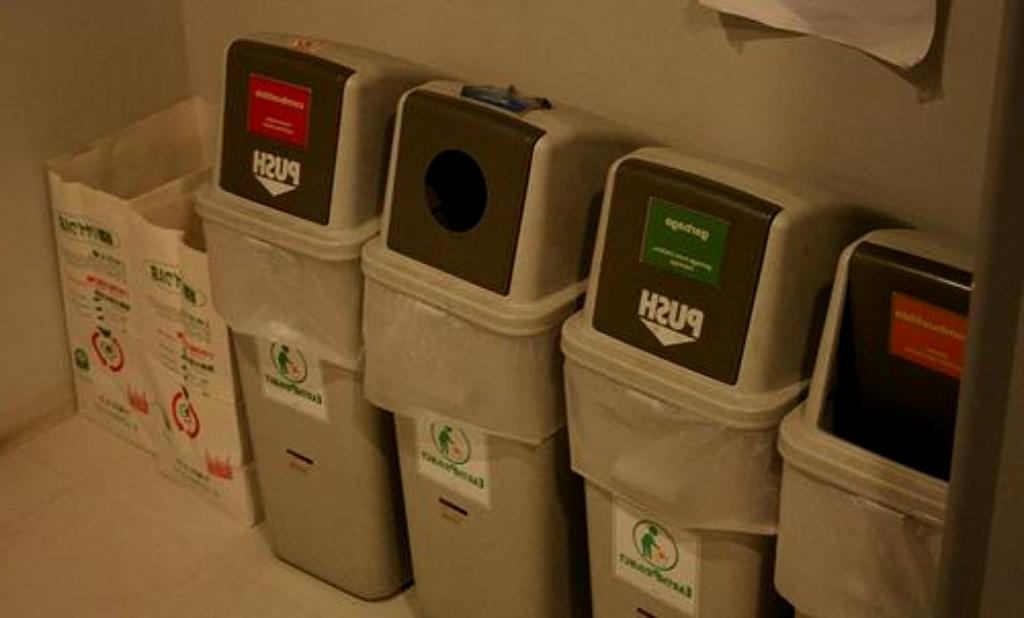dustbin: (366, 79, 633, 618), (566, 133, 861, 618), (210, 39, 445, 599)
